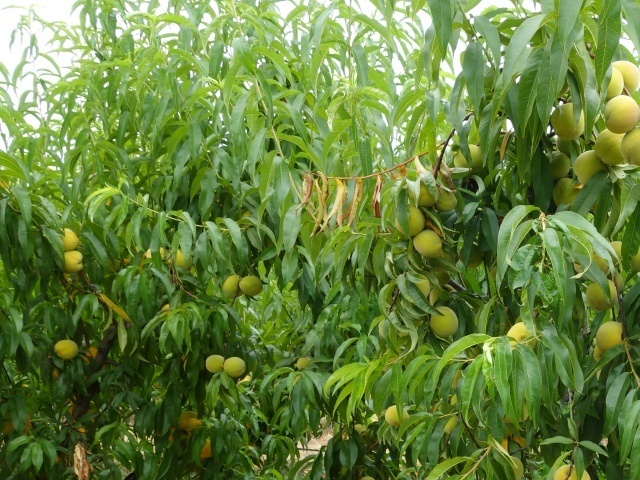peach: (550, 98, 590, 140), (592, 318, 632, 360), (594, 126, 631, 171), (391, 202, 427, 241), (571, 150, 610, 186), (428, 305, 463, 345), (499, 317, 537, 352), (411, 226, 446, 262), (585, 278, 621, 313), (452, 142, 486, 175), (407, 181, 443, 211), (550, 173, 580, 208), (57, 245, 88, 277), (601, 63, 628, 97), (545, 149, 574, 179), (435, 184, 461, 217), (55, 225, 83, 255), (383, 401, 412, 429), (235, 272, 265, 299), (202, 350, 228, 380), (222, 353, 250, 380), (52, 338, 82, 362), (549, 463, 591, 480), (175, 408, 201, 435), (220, 272, 244, 299), (173, 248, 196, 273), (294, 354, 318, 374)
